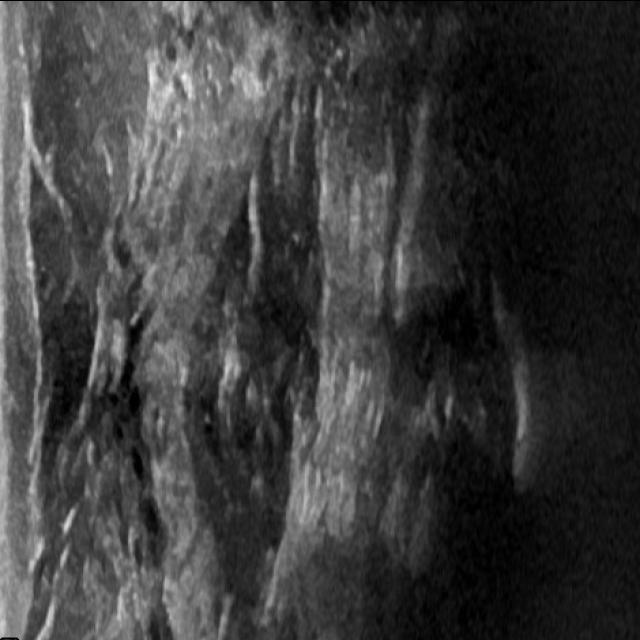Normal: (15, 22, 622, 600)
